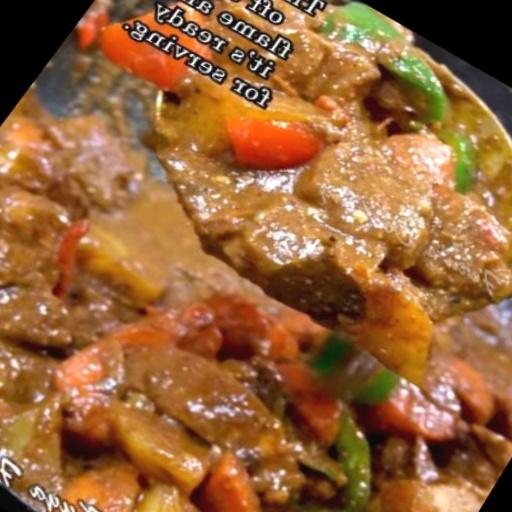pork caldereta: (0, 7, 511, 511)
